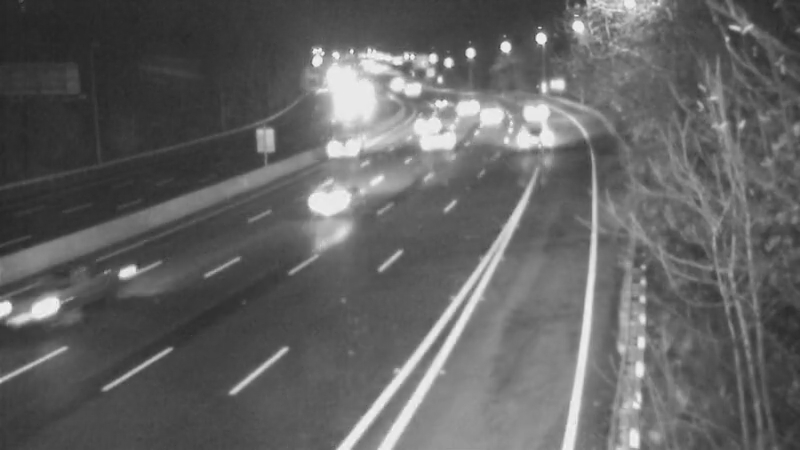vehicle: (286, 164, 366, 244), (12, 257, 92, 337), (372, 60, 422, 110), (386, 66, 436, 116), (413, 76, 463, 126), (438, 81, 488, 131), (505, 81, 555, 131), (465, 93, 515, 143), (407, 97, 457, 147), (502, 112, 552, 162), (413, 117, 463, 167), (318, 124, 368, 174), (322, 82, 372, 132)
